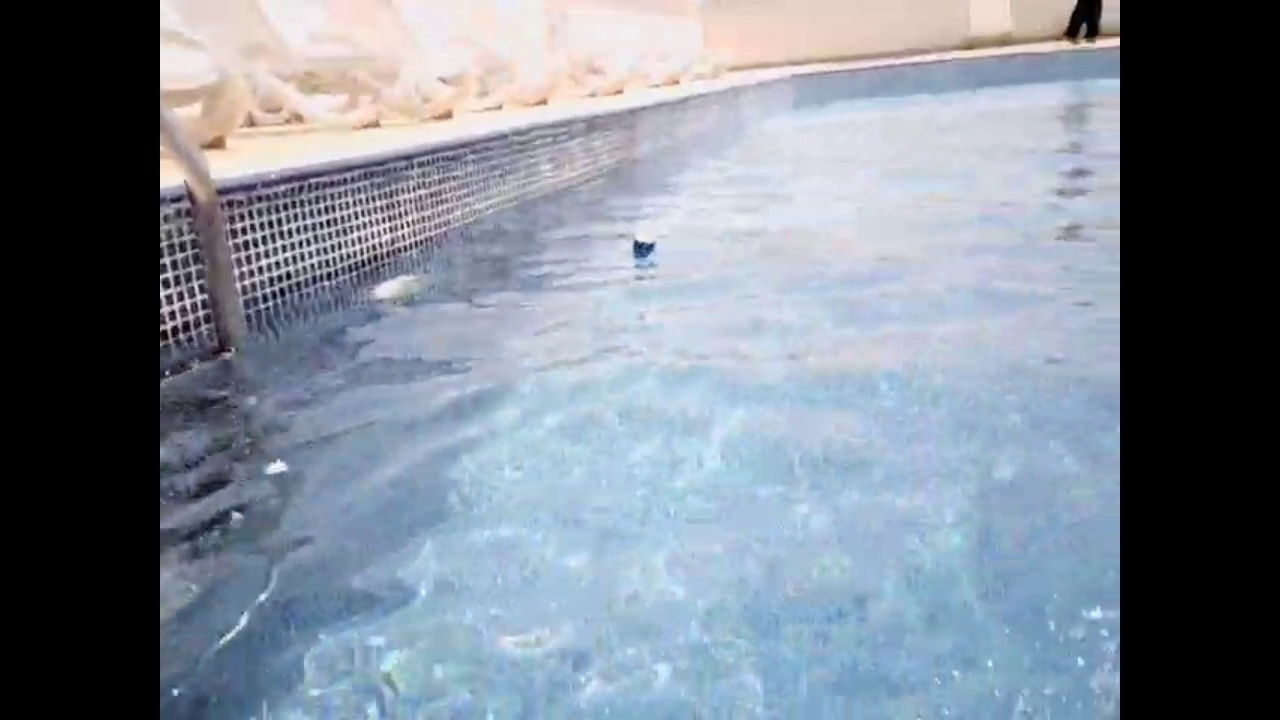debris: (622, 230, 657, 275)
